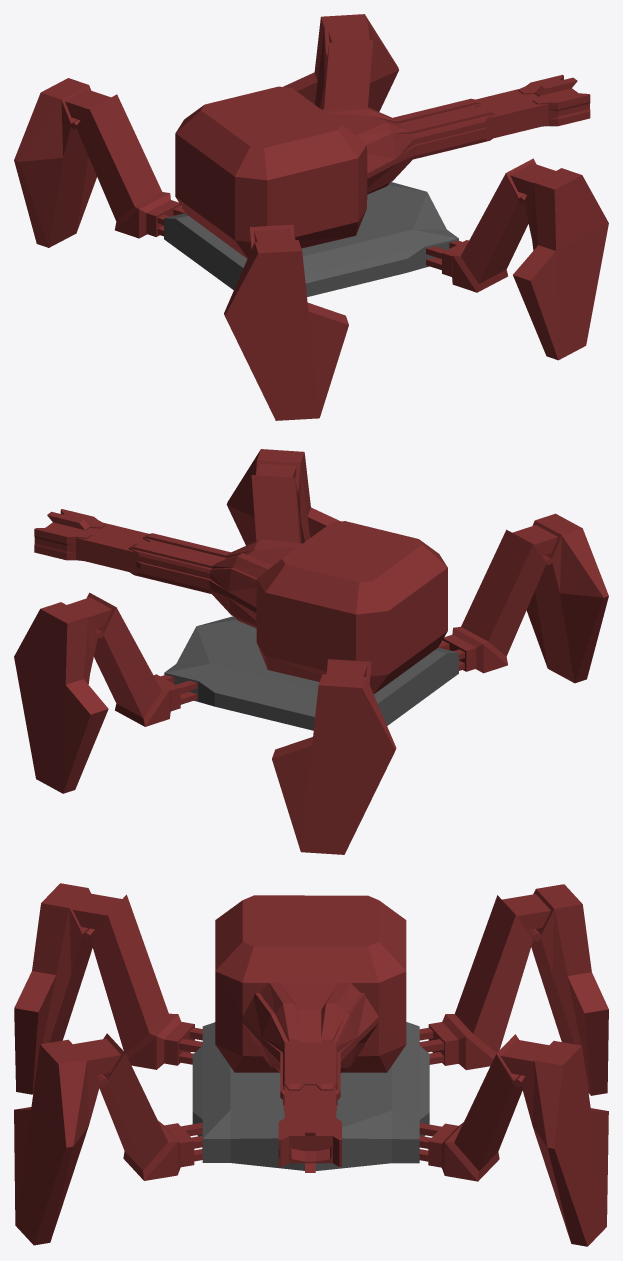
Rendered from Heavy Spider Drone.fbx.
3 views of the same model, one above another, from view 1: azimuth 30°, elevation 25°; view 2: azimuth 150°, elevation 25°; view 3: azimuth 270°, elevation 25° (orthographic). The views are drawn at different scales.
Parts seen in each view (by area): view 1: Turret, BR_LowerLeg, FR_LowerLeg, TankChasis, BL_LowerLeg, BL_UpperLeg, FR_UpperLeg, FL_LowerLeg, FL_UpperLeg; view 2: Turret, BL_LowerLeg, FL_LowerLeg, TankChasis, BR_LowerLeg, BR_UpperLeg, FL_UpperLeg, FR_LowerLeg, FR_UpperLeg; view 3: Turret, TankChasis, FL_LowerLeg, FR_LowerLeg, BR_LowerLeg, BL_LowerLeg, BR_UpperLeg, BL_UpperLeg, FL_UpperLeg, FR_UpperLeg.
Boxes of the visible parts, bbox=[...] form: Turret: bbox=[175, 74, 590, 258]; BR_LowerLeg: bbox=[224, 228, 348, 420]; FR_LowerLeg: bbox=[510, 163, 608, 360]; TankChasis: bbox=[164, 182, 458, 296]; BL_LowerLeg: bbox=[14, 78, 110, 247]; BL_UpperLeg: bbox=[71, 94, 184, 238]; FR_UpperLeg: bbox=[426, 158, 536, 292]; FL_LowerLeg: bbox=[283, 14, 398, 111]; FL_UpperLeg: bbox=[322, 40, 373, 109]; Turret: bbox=[34, 509, 447, 693]; BL_LowerLeg: bbox=[272, 663, 396, 854]; FL_LowerLeg: bbox=[14, 597, 112, 793]; TankChasis: bbox=[164, 616, 458, 730]; BR_LowerLeg: bbox=[512, 513, 608, 683]; BR_UpperLeg: bbox=[438, 529, 551, 673]; FL_UpperLeg: bbox=[86, 592, 197, 726]; FR_LowerLeg: bbox=[226, 449, 340, 545]; FR_UpperLeg: bbox=[251, 475, 301, 543]; Turret: bbox=[215, 895, 406, 1172]; TankChasis: bbox=[192, 1022, 429, 1170]; FL_LowerLeg: bbox=[500, 1039, 608, 1246]; FR_LowerLeg: bbox=[14, 1038, 121, 1245]; BR_LowerLeg: bbox=[14, 883, 121, 1094]; BL_LowerLeg: bbox=[502, 884, 608, 1095]; BR_UpperLeg: bbox=[82, 894, 202, 1069]; BL_UpperLeg: bbox=[419, 895, 541, 1070]; FL_UpperLeg: bbox=[419, 1034, 524, 1181]; FR_UpperLeg: bbox=[96, 1033, 202, 1180].
Bounding box in the file's own units: 673 × 264 × 660.
